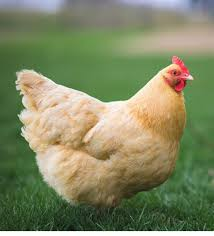buff: (29, 49, 199, 203)
